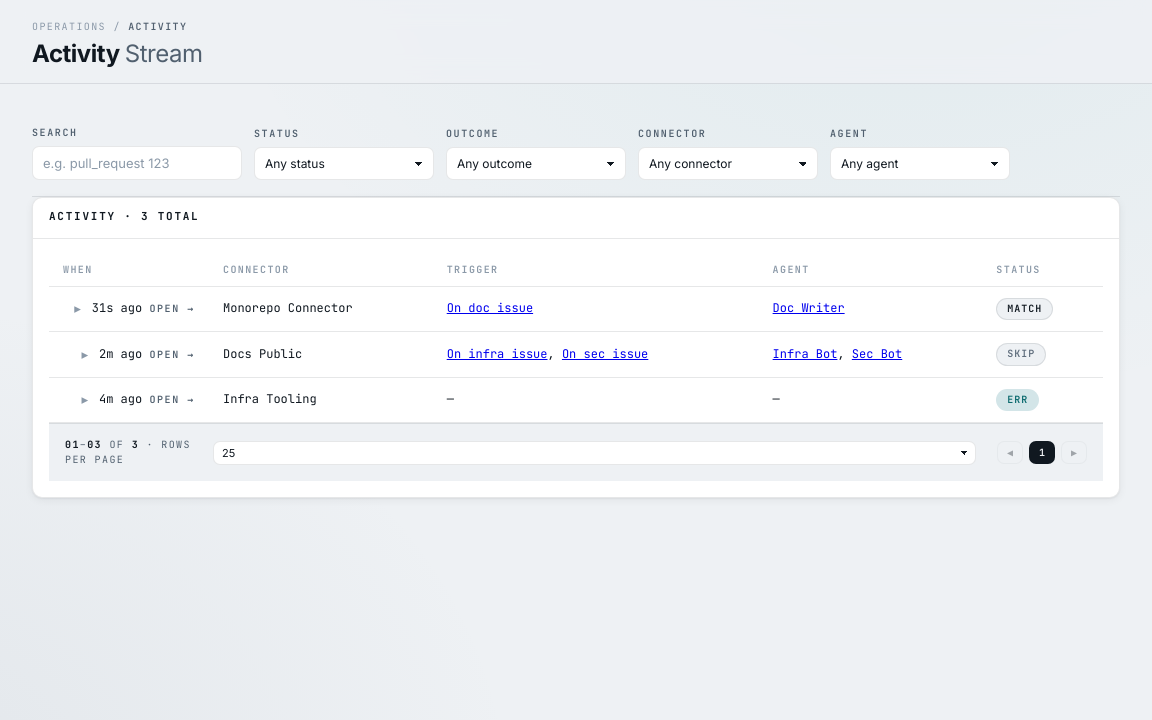
Test: Activity › expands a row to show details when the chevron is clicked
Expected: the link with aria-label "Open event e1" is shown, [49,286,1103,332]
Click the button named "expand event details". click: (78, 309)
box: [71,302,85,316]
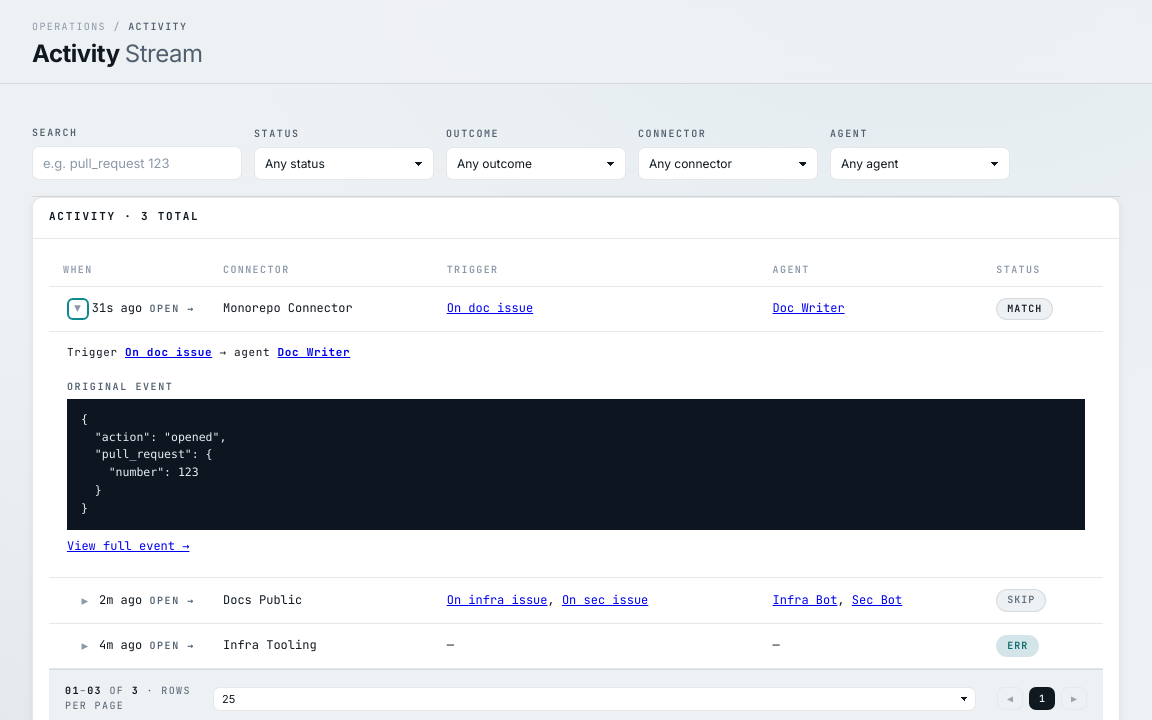
Expected: the row with class "activity-details" is shown, [49,332,1103,578]
Expected: the element showing "Trigger On doc issue → agent Doc Writer" is shown, [67,346,350,360]
